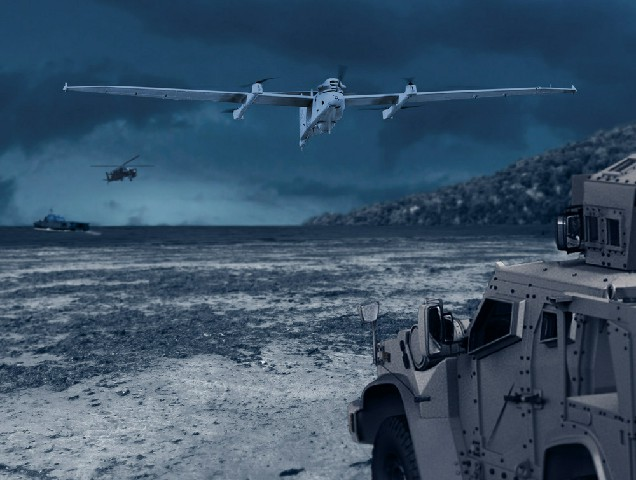maybay_khongnguoilai: (54, 61, 575, 142)
